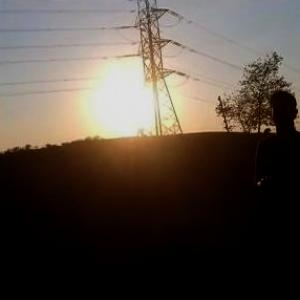follow: (247, 85, 299, 299)
